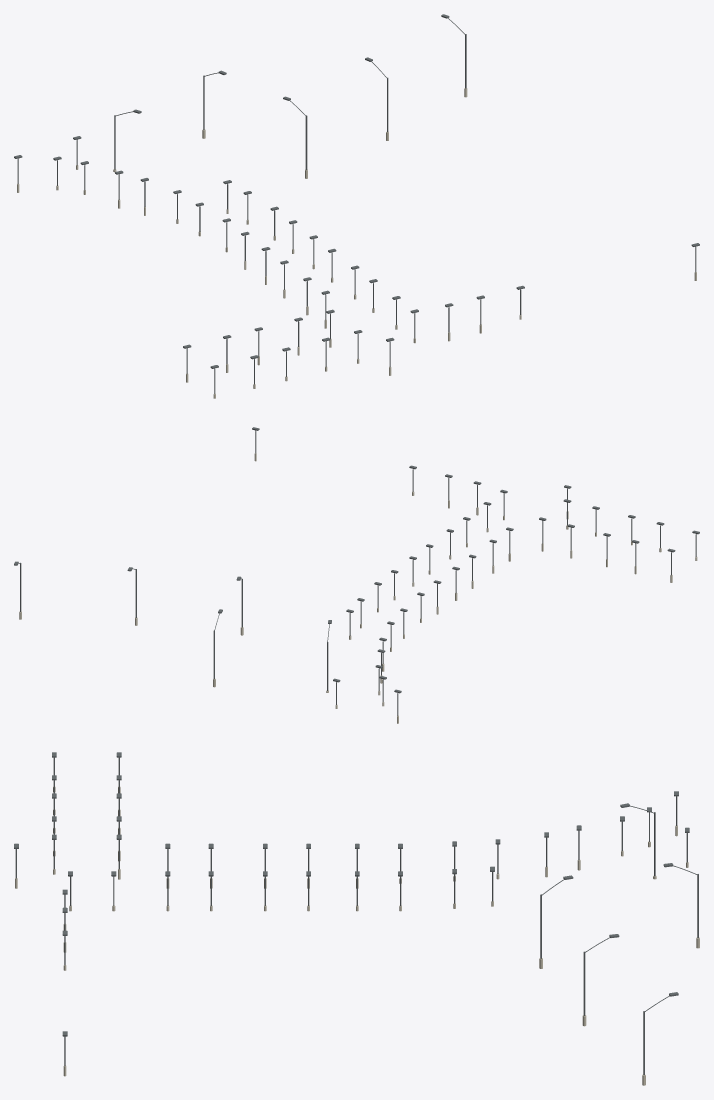
3 renders of one model, top to bottom at view 1: azimuth 30°, elevation 25°; view 2: azimuth 150°, elevation 25°; view 3: azimuth 270°, elevation 25°, orthographic. The views are drawn at different scales.
Parts seen in each view (by area): view 1: buildings_s_-10_2_Dark_Metal, buildings_s_-10_2_Warm_Limestone; view 2: buildings_s_-10_2_Dark_Metal, buildings_s_-10_2_Warm_Limestone; view 3: buildings_s_-10_2_Dark_Metal, buildings_s_-10_2_Warm_Limestone.
Part boxes in pixels (<box>): buildings_s_-10_2_Dark_Metal: <box>14,14,699,394</box>; buildings_s_-10_2_Warm_Limestone: <box>17,88,696,398</box>; buildings_s_-10_2_Dark_Metal: <box>14,427,699,715</box>; buildings_s_-10_2_Warm_Limestone: <box>19,453,697,723</box>; buildings_s_-10_2_Dark_Metal: <box>14,752,698,1075</box>; buildings_s_-10_2_Warm_Limestone: <box>15,786,699,1085</box>.
Bounding box in the file's own units: 127 × 17.75 × 127.
